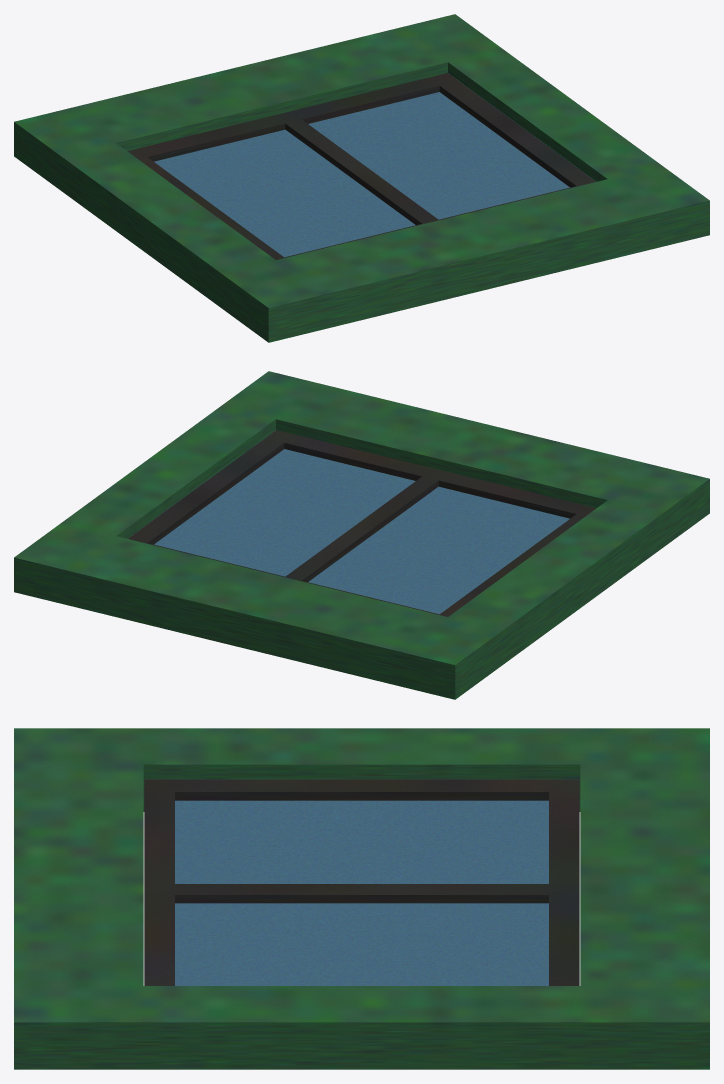
Rendered from wall_window.obj.
3 renders of one model, top to bottom at view 1: azimuth 30°, elevation 25°; view 2: azimuth 150°, elevation 25°; view 3: azimuth 270°, elevation 25°, orthographic. The views are drawn at different scales.
Parts seen in each view (by area): view 1: wall, window; view 2: wall, window; view 3: wall, window.
Part boxes in pixels (x1,y1,x2,y2): wall: (14,14,709,342); window: (127,73,596,259); wall: (14,371,709,699); window: (127,430,596,616); wall: (14,728,709,1069); window: (144,779,579,985).
Size of the model in its own units: 4 by 0.3 by 4.
